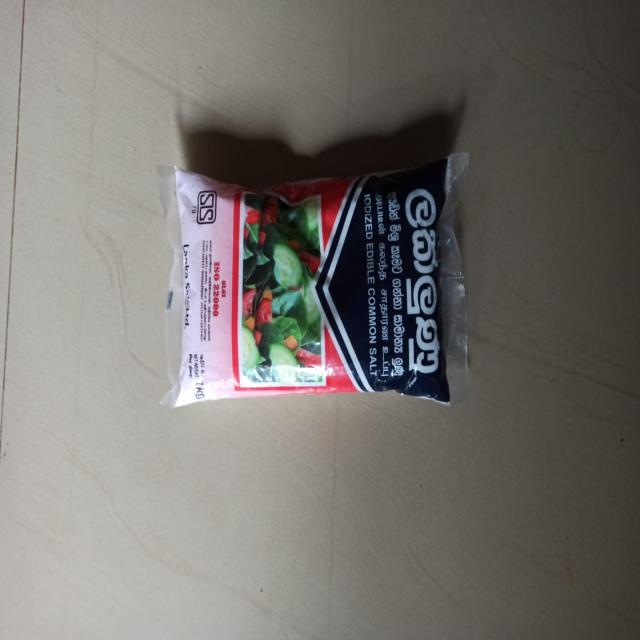Lak Lunu: (167, 132, 498, 440)
